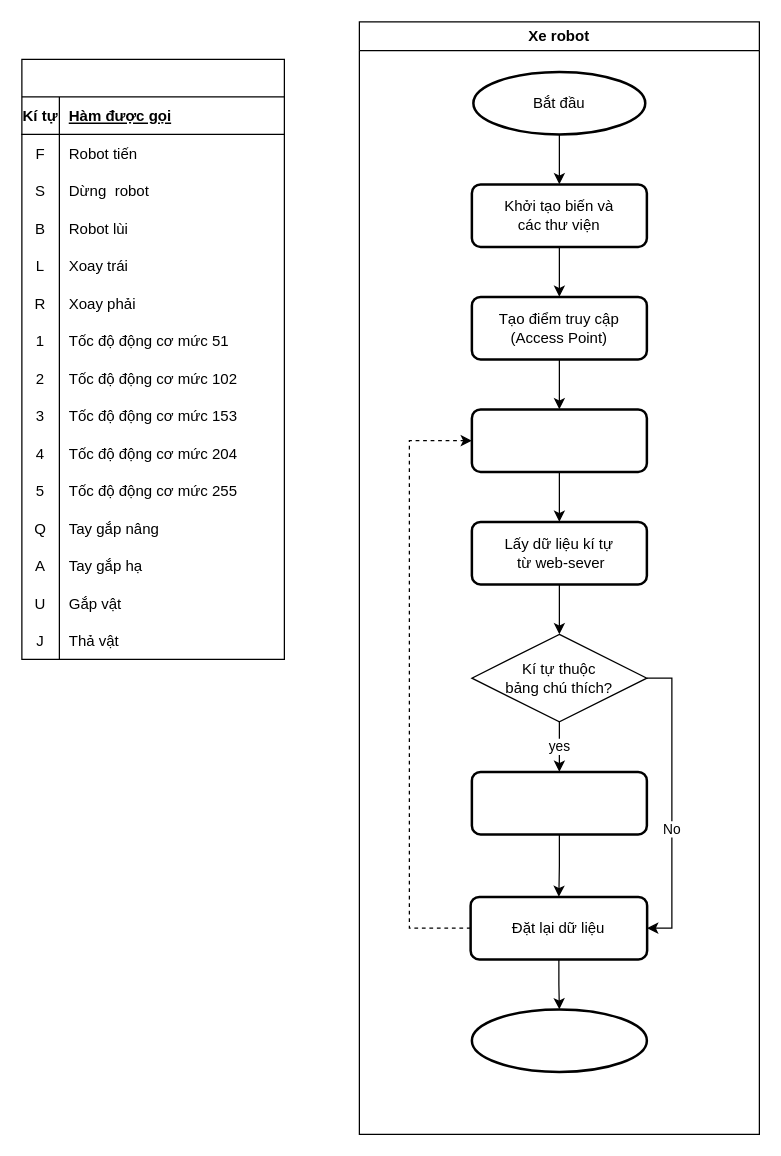
Some shapes in this 781 by 1156 pixel diagram are drawn without their labels. The box of each missing label's shape, as (x1, y1, x2, y2) in pixels:
Bảng chú thích tín hiệu: (21, 58, 284, 659)
Khởi tạo web-sever Xuất IP ra màn hình: (470, 408, 648, 472)
Kích hoạt hàm được gọi tương ứng: (470, 770, 648, 835)
Kết thúc: (470, 1008, 648, 1072)
